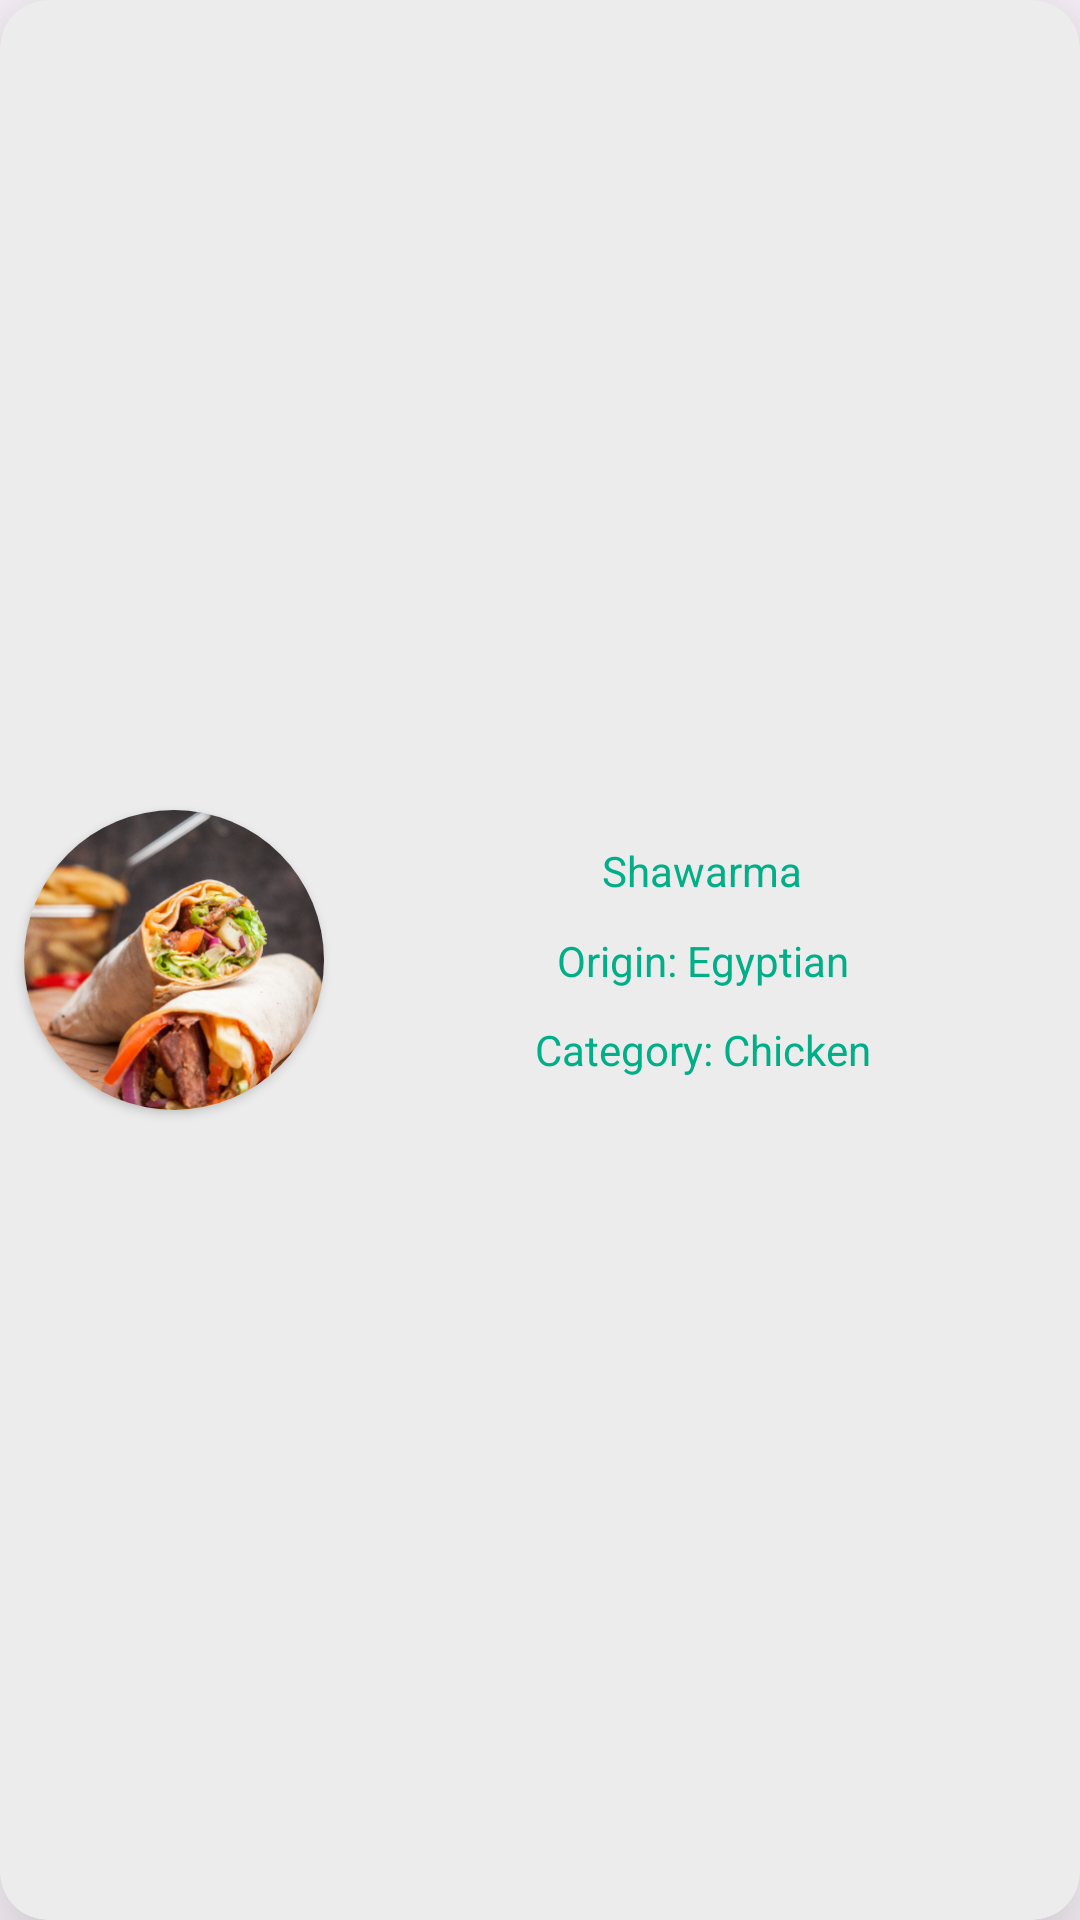

Icon bounding boxes for this 1080*1920 phone screenshot, format (left=x1, top=y1, right=x2, bottom=y2):
food photo: (left=24, top=810, right=324, bottom=1110)
